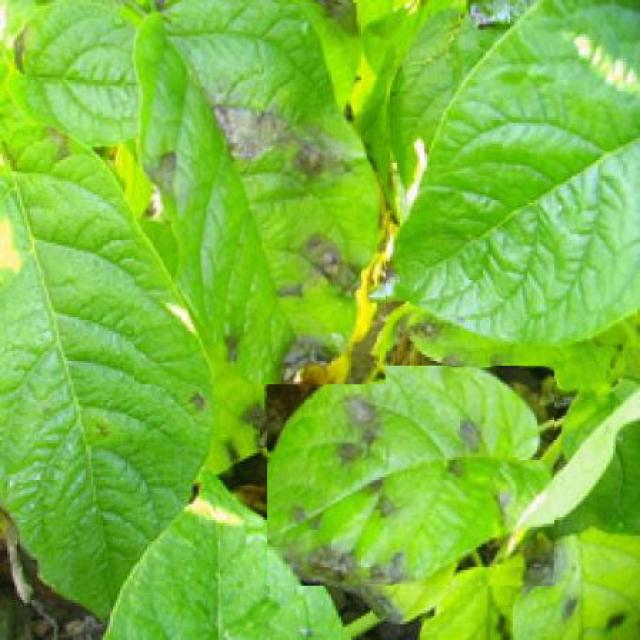Late Blight: (135, 3, 385, 384), (267, 365, 554, 586)
